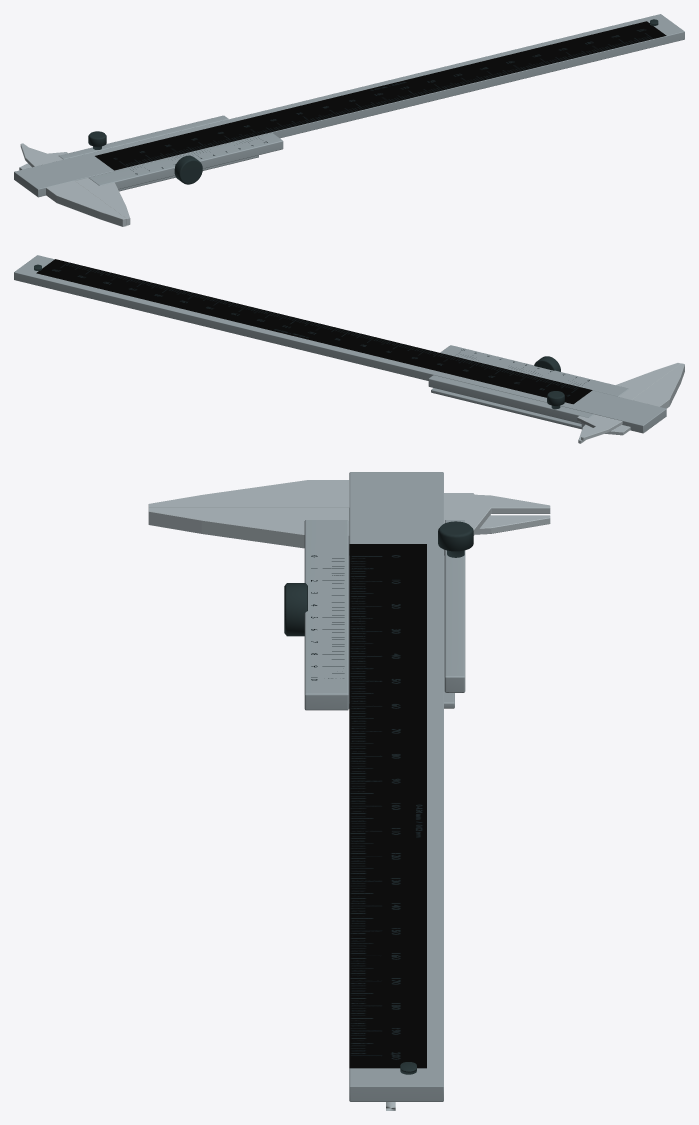
The model's file is VLAB_caliper.fbx.
3 views of the same model, one above another, from view 1: azimuth 30°, elevation 25°; view 2: azimuth 150°, elevation 25°; view 3: azimuth 270°, elevation 25° (orthographic). The views are drawn at different scales.
Visible parts, largest first — view 1: VLAB_caliper_Scale_VIS, VLAB_caliper_Beam_VIS, VLAB_caliper_Slider_VIS, VLAB_caliper_OutsideJaws_VIS, VLAB_caliper_OutsideJawsMoving_VIS, VLAB_caliper_ThumbWheel_VIS, VLAB_caliper_InsideJawsMoving_VIS; view 2: VLAB_caliper_Scale_VIS, VLAB_caliper_Beam_VIS, VLAB_caliper_Slider_VIS, VLAB_caliper_OutsideJaws_VIS, VLAB_caliper_OutsideJawsMoving_VIS, VLAB_caliper_InsideJawsMoving_VIS; view 3: VLAB_caliper_Scale_VIS, VLAB_caliper_Beam_VIS, VLAB_caliper_Slider_VIS, VLAB_caliper_OutsideJawsMoving_VIS, VLAB_caliper_OutsideJaws_VIS, VLAB_caliper_InsideJawsMoving_VIS, VLAB_caliper_ThumbWheel_VIS, VLAB_caliper_LockScrew_VIS, VLAB_caliper_InsideJaws_VIS.
Part boxes in pixels (box(x1,y1,x2,y2)): VLAB_caliper_Scale_VIS: box(95, 21, 666, 170); VLAB_caliper_Beam_VIS: box(14, 14, 684, 197); VLAB_caliper_Slider_VIS: box(59, 115, 283, 191); VLAB_caliper_OutsideJaws_VIS: box(46, 180, 126, 226); VLAB_caliper_OutsideJawsMoving_VIS: box(75, 177, 130, 225); VLAB_caliper_ThumbWheel_VIS: box(174, 155, 202, 184); VLAB_caliper_InsideJawsMoving_VIS: box(20, 143, 67, 167); VLAB_caliper_Scale_VIS: box(36, 259, 592, 404); VLAB_caliper_Beam_VIS: box(14, 255, 666, 433); VLAB_caliper_Slider_VIS: box(428, 345, 628, 429); VLAB_caliper_OutsideJaws_VIS: box(632, 363, 684, 408); VLAB_caliper_OutsideJawsMoving_VIS: box(615, 363, 680, 399); VLAB_caliper_InsideJawsMoving_VIS: box(577, 414, 622, 440); VLAB_caliper_Scale_VIS: box(349, 544, 426, 1068); VLAB_caliper_Beam_VIS: box(349, 472, 443, 1101); VLAB_caliper_Slider_VIS: box(304, 520, 465, 710); VLAB_caliper_OutsideJawsMoving_VIS: box(148, 508, 349, 548); VLAB_caliper_OutsideJaws_VIS: box(148, 480, 349, 507); VLAB_caliper_InsideJawsMoving_VIS: box(444, 493, 550, 535); VLAB_caliper_ThumbWheel_VIS: box(284, 583, 307, 636); VLAB_caliper_LockScrew_VIS: box(438, 521, 473, 557); VLAB_caliper_InsideJaws_VIS: box(444, 493, 550, 534).
Size of the model in its own units: 0.246 by 0.011 by 0.068.
